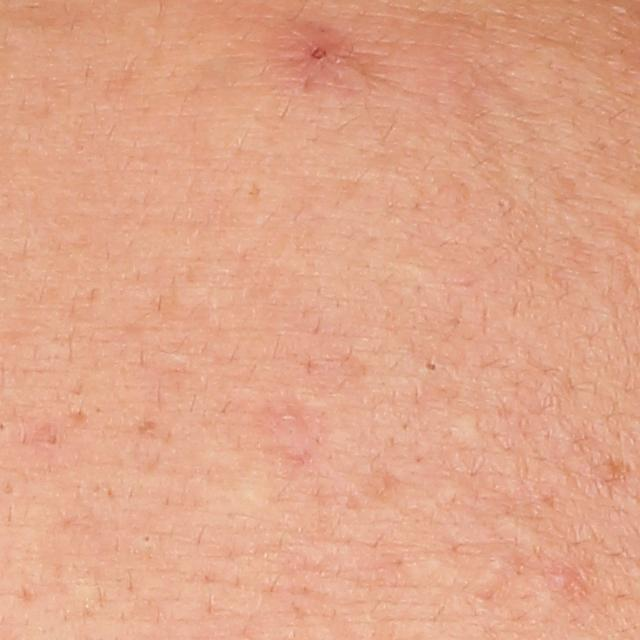comedo: (420, 355, 442, 376), (41, 432, 63, 451), (141, 531, 155, 546)
